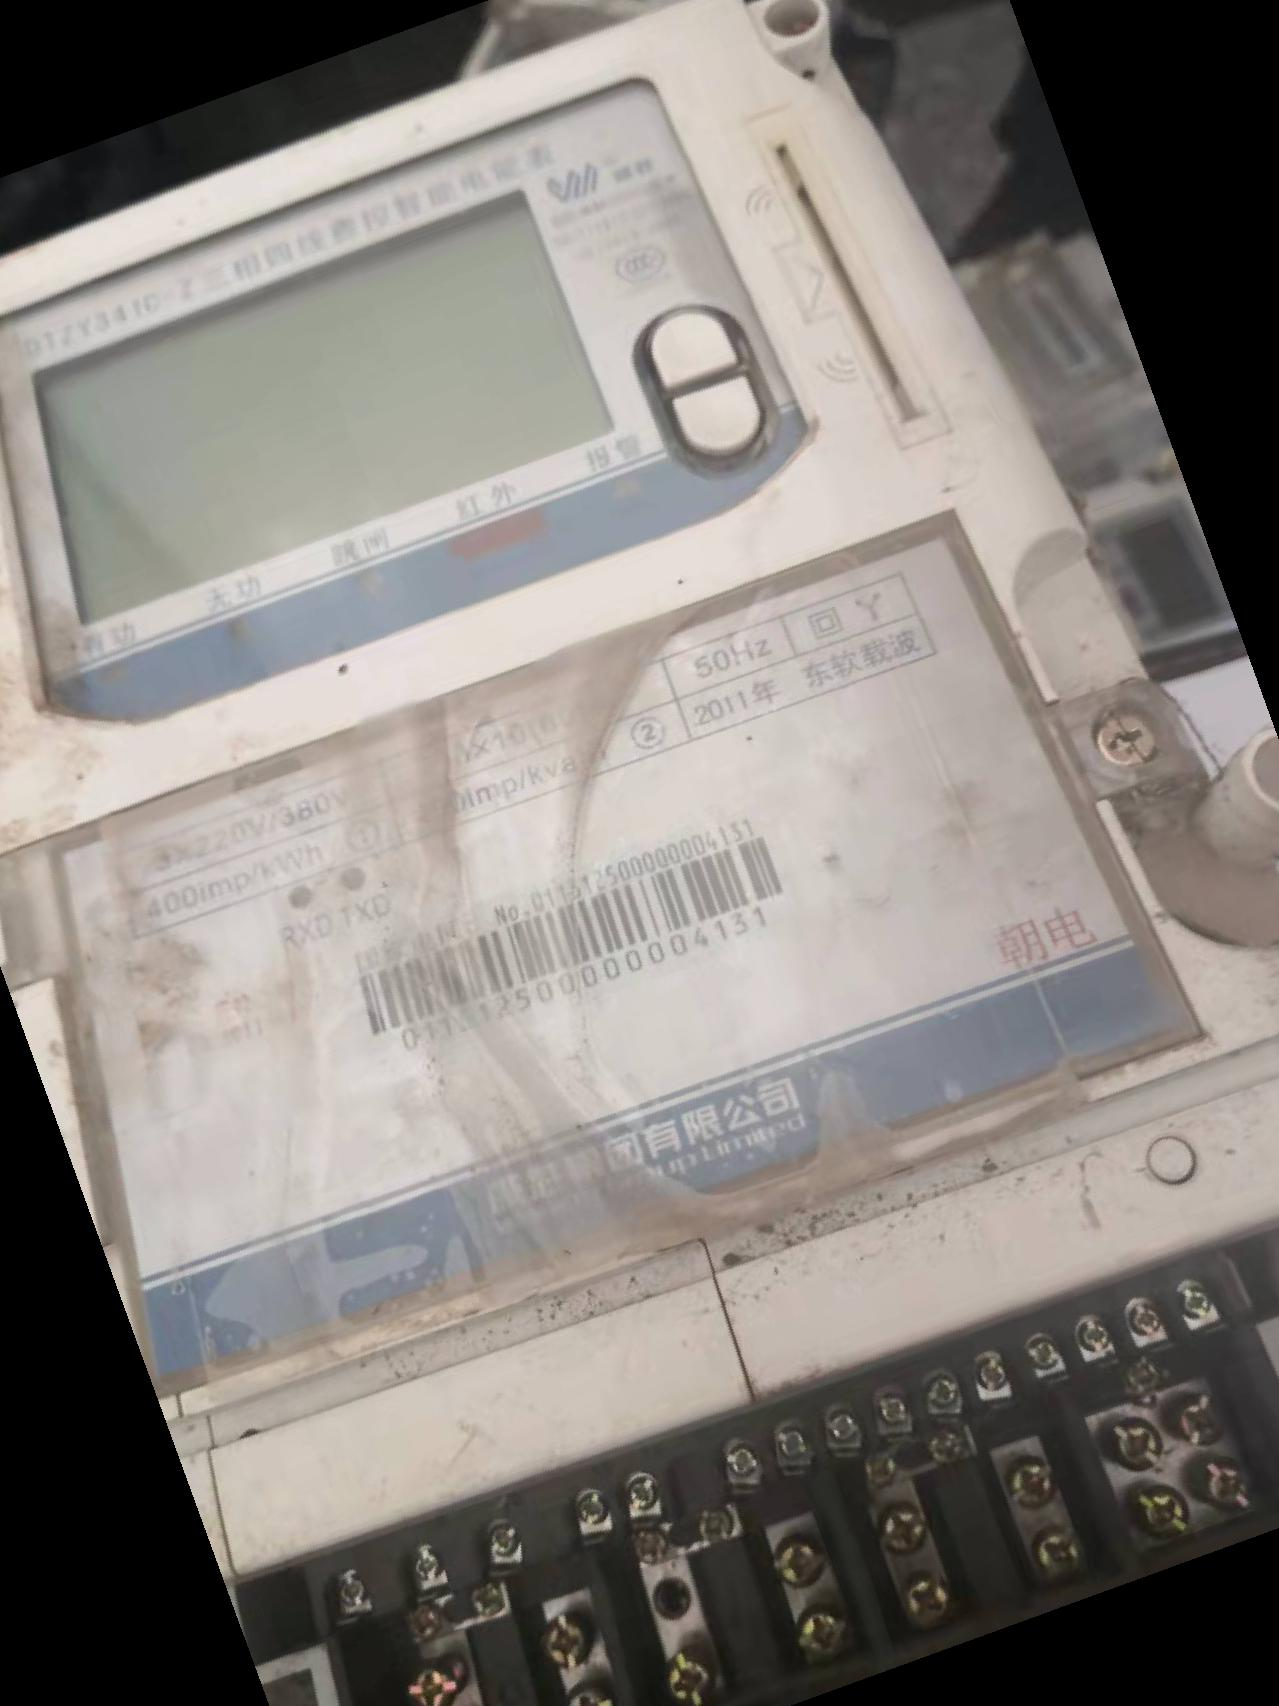digital: (4, 1, 1275, 1415)
